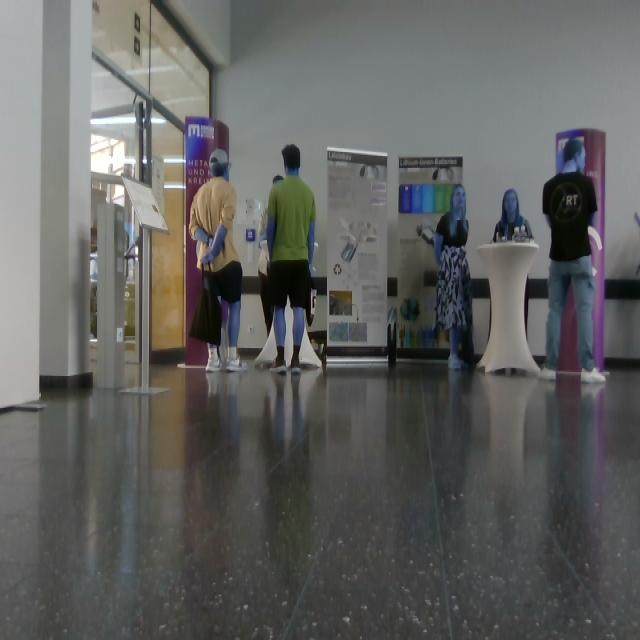banner: (398, 157, 462, 362), (326, 148, 388, 353), (557, 129, 606, 369), (186, 117, 229, 365), (561, 289, 580, 370)
door: (92, 1, 210, 365)
person: (543, 140, 605, 382), (191, 150, 247, 370), (267, 145, 315, 372), (434, 186, 472, 370), (494, 190, 533, 241)
pillar: (42, 1, 92, 390)
table: (478, 241, 540, 374)
tiled floor: (1, 361, 640, 640)
